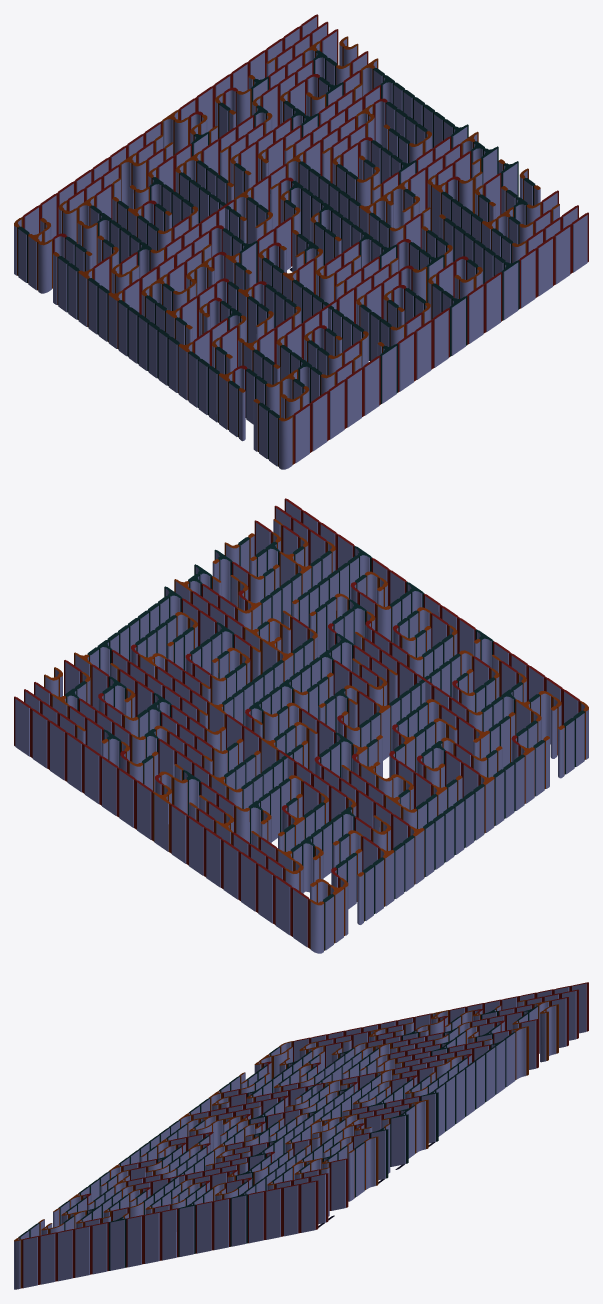
The model's file is W_M_maze_InWall_Side_A_Collider.fbx.
The picture shows the model from 3 angles, top to bottom: view 1: azimuth 30°, elevation 25°; view 2: azimuth 150°, elevation 25°; view 3: azimuth 330°, elevation 25°; orthographic projection.
Visible parts, largest first — view 1: W_M_maze_InWall_Side_A_Collider; view 2: W_M_maze_InWall_Side_A_Collider; view 3: W_M_maze_InWall_Side_A_Collider.
Boxes of the visible parts, box(x1,y1,x2,y2) form: W_M_maze_InWall_Side_A_Collider: box(14, 14, 588, 469); W_M_maze_InWall_Side_A_Collider: box(14, 498, 588, 953); W_M_maze_InWall_Side_A_Collider: box(14, 982, 588, 1289).
Size of the model in its own units: 26.4 by 15.17 by 40.77.
